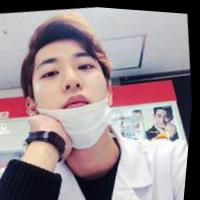NONE: (157, 108, 176, 127)
WRONG: (22, 41, 123, 142)
